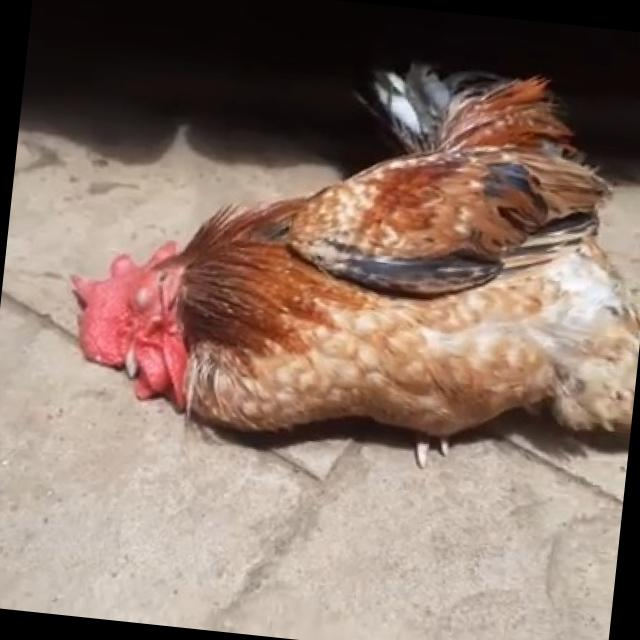sleeping chickens: (54, 47, 640, 502)
